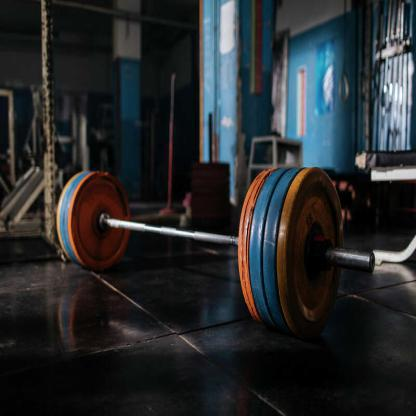Barbell: (270, 161, 356, 344)
